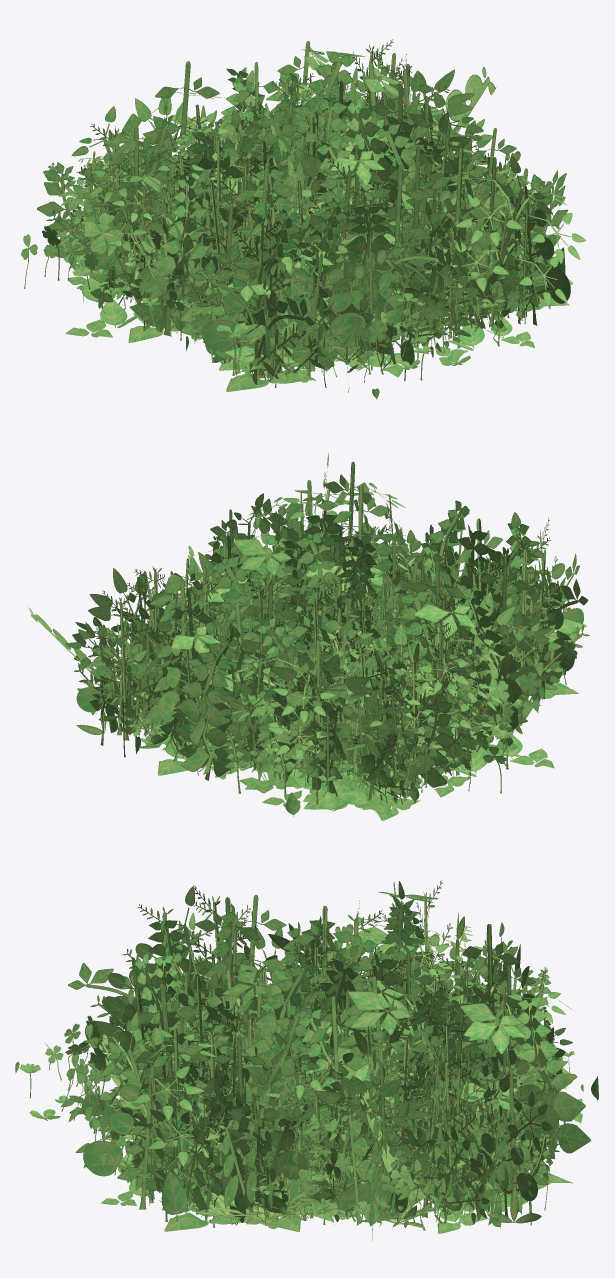
File: LeafSet.gltf
3 renders of one model, top to bottom at view 1: azimuth 30°, elevation 25°; view 2: azimuth 150°, elevation 25°; view 3: azimuth 270°, elevation 25°, orthographic. The views are drawn at different scales.
Visible parts, largest first — view 1: LeafSetB_21, LeafSetF_19, LeafSetF_20, LeafSetC_16, LeafSetB_20, LeafSetD_20, LeafSetA_24, LeafSetH_15, LeafSetC_17, LeafSetA_23, LeafSetE_13, LeafSetH_14 (+6 smaller); view 2: LeafSetB_21, LeafSetC_16, LeafSetF_19, LeafSetF_20, LeafSetB_20, LeafSetA_24, LeafSetC_17, LeafSetD_20, LeafSetH_14, LeafSetA_23, LeafSetE_13, LeafSetE_14 (+6 smaller); view 3: LeafSetB_21, LeafSetC_16, LeafSetF_19, LeafSetF_20, LeafSetB_20, LeafSetH_15, LeafSetA_24, LeafSetA_23, LeafSetC_17, LeafSetD_20, LeafSetE_14, LeafSetE_13 (+6 smaller).
Part boxes in pixels (<box>): LeafSetB_21: <box>48,51,569,377</box>; LeafSetF_19: <box>66,41,554,371</box>; LeafSetF_20: <box>37,49,567,378</box>; LeafSetC_16: <box>56,53,585,368</box>; LeafSetB_20: <box>63,92,507,391</box>; LeafSetD_20: <box>21,144,539,399</box>; LeafSetA_24: <box>46,39,549,379</box>; LeafSetH_15: <box>108,92,570,381</box>; LeafSetC_17: <box>69,69,565,369</box>; LeafSetA_23: <box>49,54,555,384</box>; LeafSetE_13: <box>105,67,550,375</box>; LeafSetH_14: <box>84,77,524,380</box>; LeafSetB_21: <box>89,511,554,816</box>; LeafSetC_16: <box>65,453,571,789</box>; LeafSetF_19: <box>125,494,588,796</box>; LeafSetF_20: <box>125,461,586,790</box>; LeafSetB_20: <box>109,500,578,820</box>; LeafSetA_24: <box>74,516,589,801</box>; LeafSetC_17: <box>72,511,551,785</box>; LeafSetD_20: <box>109,524,582,793</box>; LeafSetH_14: <box>99,531,583,800</box>; LeafSetA_23: <box>76,518,570,784</box>; LeafSetE_13: <box>28,538,549,788</box>; LeafSetE_14: <box>138,529,541,790</box>; LeafSetB_21: <box>100,903,598,1231</box>; LeafSetC_16: <box>60,881,572,1203</box>; LeafSetF_19: <box>68,882,555,1209</box>; LeafSetF_20: <box>117,894,554,1214</box>; LeafSetB_20: <box>132,896,572,1233</box>; LeafSetH_15: <box>83,957,543,1221</box>; LeafSetA_24: <box>103,880,568,1213</box>; LeafSetA_23: <box>90,904,555,1228</box>; LeafSetC_17: <box>69,922,572,1229</box>; LeafSetD_20: <box>15,961,583,1217</box>; LeafSetE_14: <box>98,924,540,1225</box>; LeafSetE_13: <box>138,934,529,1225</box>.
Bounding box in the file's own units: 3.36 × 1.81 × 3.2.
2 materials, 2 textured.
